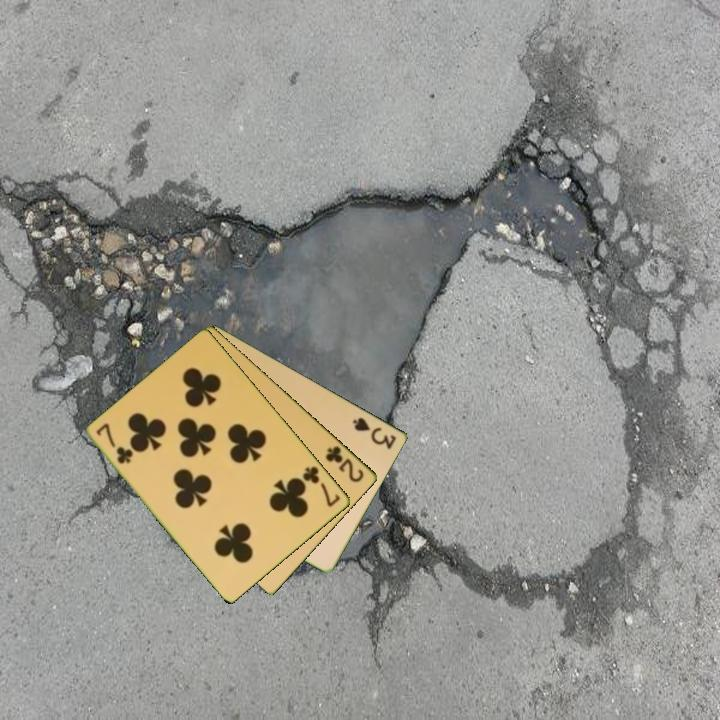2c: (322, 442, 367, 485)
3s: (350, 413, 399, 452)
7c: (299, 462, 344, 510), (93, 420, 136, 467)
